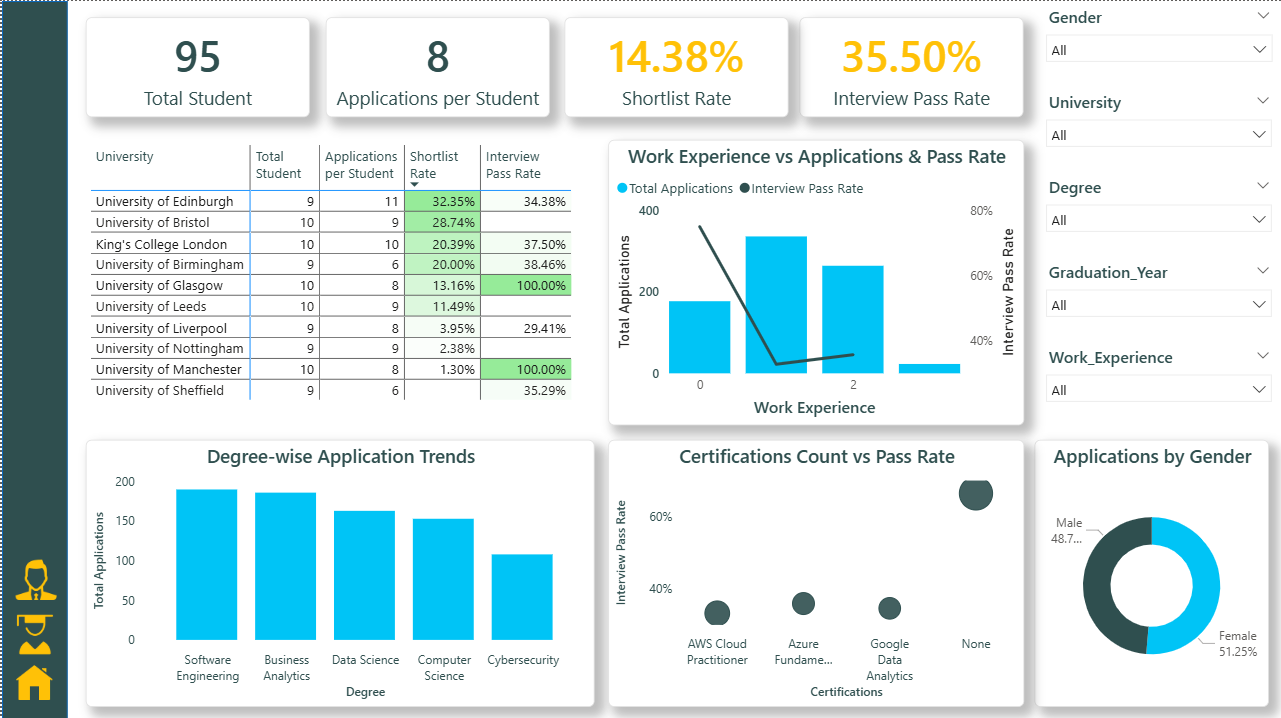

The page's visual inventory and layout, read from the dashboard file:
{"tool":"powerbi","page":{"name":"Student Analytics","canvas":[1280,720],"ordinal":1},"visuals":[{"type":"shape","box":[0,0,65.7,720],"z":0},{"type":"slicer","fields":{"Values":["Students.Gender"]},"box":[1033.3,0,246.7,85],"z":1000},{"type":"slicer","fields":{"Values":["Students.University"]},"box":[1033.8,85,246.2,85],"z":2000},{"type":"slicer","fields":{"Values":["Students.Degree"]},"box":[1033.8,170,246.2,85],"z":3000},{"type":"slicer","fields":{"Values":["Students.Graduation_Year"]},"box":[1033.8,255,246.2,85],"z":4000},{"type":"slicer","fields":{"Values":["Students.Work_Experience"]},"box":[1033.8,340,246.2,85],"z":5000},{"type":"donutChart","title":"Applications by Gender","fields":{"Category":["Students.Gender"],"Y":["Measure.Total Applications"]},"box":[1032.9,438.6,234.3,267.1],"z":6000},{"type":"clusteredColumnChart","title":"Degree-wise Application Trends","fields":{"Y":["Measure.Total Applications"],"Category":["Students.Degree"]},"box":[84.3,438.6,508.6,267.1],"z":7000},{"type":"lineClusteredColumnComboChart","title":"Work Experience vs Applications & Pass Rate","fields":{"Y":["Measure.Total Applications"],"Y2":["Measure.Interview Pass Rate"],"Category":["Students.Work_Experience"]},"box":[605.7,138.6,415.7,285.7],"z":8000},{"type":"scatterChart","title":"Certifications Count vs Pass Rate","fields":{"X":["Students.Certifications"],"Y":["Measure.Interview Pass Rate"],"Size":["Measure.Total Applications"]},"box":[605.7,438.6,415.7,267.1],"z":9000},{"type":"card","fields":{"Values":["Measure.Total Student"]},"box":[84.3,15.7,224.3,100],"z":10000},{"type":"card","fields":{"Values":["Measure.Avg Applications per Student"]},"box":[324.3,15.7,224.3,100],"z":11000},{"type":"card","fields":{"Values":["Measure.Interview Pass Rate"]},"box":[797.1,15.7,224.3,100],"z":12000},{"type":"card","fields":{"Values":["Measure.Shortlist Rate"]},"box":[562.9,15.7,224.3,100],"z":13000},{"type":"pivotTable","fields":{"Rows":["Students.University"],"Values":["Measure.Total Student","Measure.Avg Applications per Student","Measure.Shortlist Rate","Measure.Interview Pass Rate"]},"box":[84.3,138.6,508.6,285.7],"z":14000},{"type":"image","box":[8.8,658.8,47.5,47.5],"z":15000},{"type":"image","box":[5,608.8,56.2,50],"z":16000},{"type":"image","box":[2.5,550,62.5,58.8],"z":17000}]}

Visuals, with their boxes on the page's 1280x720 design canvas (x1, y1, x2, y2). These are canvas units, not pixel positions in the 1281x718 screenshot, which may show the page scaled, cropped or inside an application window:
shape: region(0, 0, 66, 720)
slicer - Students.Gender: region(1033, 0, 1280, 85)
slicer - Students.University: region(1034, 85, 1280, 170)
slicer - Students.Degree: region(1034, 170, 1280, 255)
slicer - Students.Graduation_Year: region(1034, 255, 1280, 340)
slicer - Students.Work_Experience: region(1034, 340, 1280, 425)
"Applications by Gender" donutChart: region(1033, 439, 1267, 706)
"Degree-wise Application Trends" clusteredColumnChart: region(84, 439, 593, 706)
"Work Experience vs Applications & Pass Rate" lineClusteredColumnComboChart: region(606, 139, 1021, 424)
"Certifications Count vs Pass Rate" scatterChart: region(606, 439, 1021, 706)
card - Measure.Total Student: region(84, 16, 309, 116)
card - Measure.Avg Applications per Student: region(324, 16, 549, 116)
card - Measure.Interview Pass Rate: region(797, 16, 1021, 116)
card - Measure.Shortlist Rate: region(563, 16, 787, 116)
pivotTable - Students.University x Measure.Total Student: region(84, 139, 593, 424)
image: region(9, 659, 56, 706)
image: region(5, 609, 61, 659)
image: region(2, 550, 65, 609)
